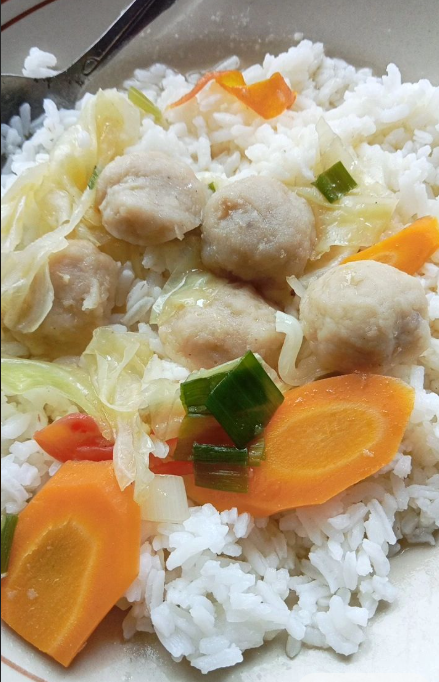buah_sayur_vitA: (29, 489, 108, 630), (283, 392, 386, 485)
daging: (122, 164, 182, 248), (218, 199, 294, 263)
makanan_berpati: (162, 537, 355, 642)
